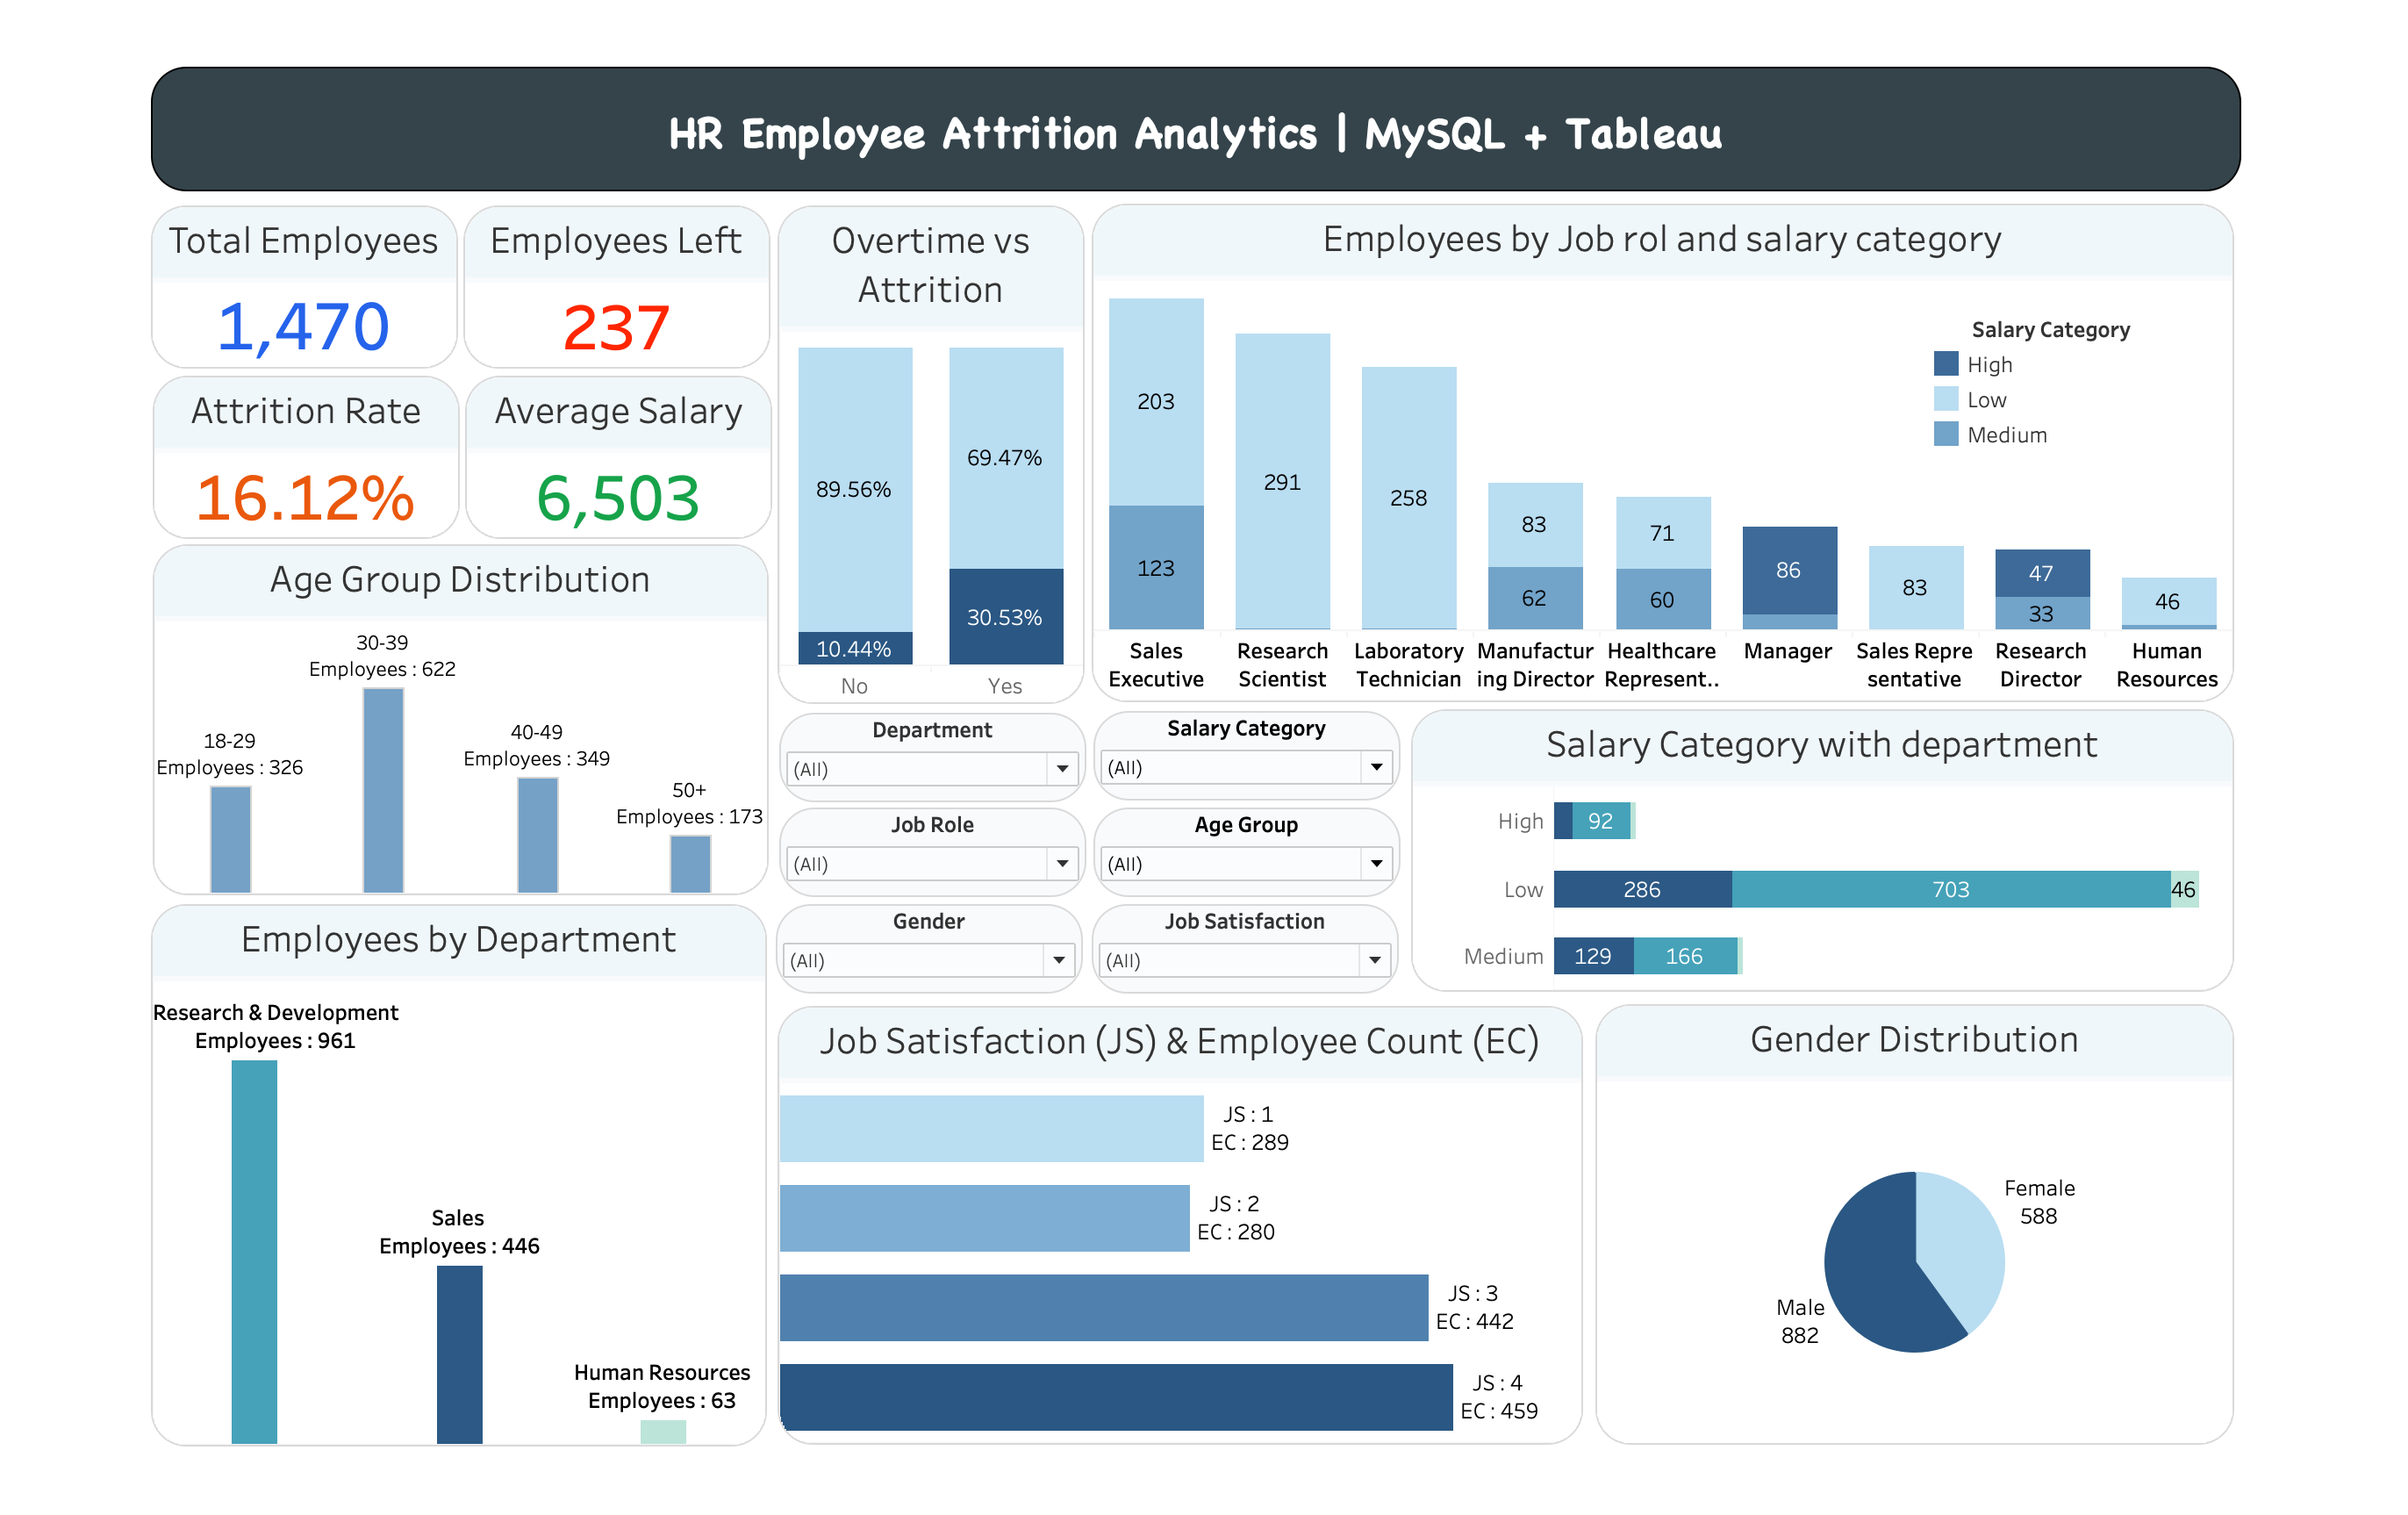

Layout of this report page (visuals, bound fields, positions):
{"tool":"tableau","page":{"name":"Dashboard 1","canvas":[1200,800],"ordinal":0},"visuals":[{"type":"text","box":[4,7,1191,71]},{"type":"worksheet","title":"Job Role","mark":"Automatic","rows":["EmployeeNumber"],"cols":["JobRole"],"box":[540,85,651,284]},{"type":"worksheet","title":"Total Employees","mark":"Automatic","box":[4,86,175,93]},{"type":"worksheet","title":"Employees Left","mark":"Automatic","box":[182,86,175,93]},{"type":"worksheet","title":"Overtime vs Attrition","mark":"Automatic","cols":["OverTime"],"box":[361,86,175,284]},{"type":"legend","title":"Job Role","param":"[federated.0eisggo0r1hdwp172ihms1edjboi].[none:SalaryCategory:nk]","box":[1017,148,140,78]},{"type":"worksheet","title":"Attrition Rate","mark":"Automatic","box":[5,183,175,93]},{"type":"worksheet","title":"Average Salary","mark":"Automatic","box":[183,183,175,93]},{"type":"worksheet","title":"Age Group Distribution","mark":"Automatic","rows":["EmployeeNumber"],"cols":["AgeGroup"],"box":[5,279,351,200]},{"type":"worksheet","title":"Salary Category","mark":"Automatic","rows":["SalaryCategory"],"cols":["EmployeeNumber"],"box":[722,373,469,161]},{"type":"filter","title":"Age Group Distribution","param":"[federated.0eisggo0r1hdwp172ihms1edjboi].[none:SalaryCategory:nk]","box":[541,374,175,51]},{"type":"filter","title":"Employees by Department","param":"[federated.0eisggo0r1hdwp172ihms1edjboi].[none:Department:nk]","box":[362,375,175,51]},{"type":"filter","title":"Job Role","param":"[federated.0eisggo0r1hdwp172ihms1edjboi].[none:JobRole:nk]","box":[362,429,175,51]},{"type":"filter","title":"Age Group Distribution","param":"[federated.0eisggo0r1hdwp172ihms1edjboi].[none:AgeGroup:nk]","box":[541,429,175,51]},{"type":"worksheet","title":"Employees by Department","mark":"Automatic","rows":["EmployeeNumber"],"cols":["Department"],"box":[4,484,351,309]},{"type":"filter","title":"Gender Distribution","param":"[federated.0eisggo0r1hdwp172ihms1edjboi].[none:Gender:nk]","box":[360,484,175,51]},{"type":"filter","title":"JS % EC","param":"[federated.0eisggo0r1hdwp172ihms1edjboi].[none:JobSatisfaction:ok]","box":[540,484,175,51]},{"type":"worksheet","title":"Gender Distribution","mark":"Pie","box":[827,541,364,251]},{"type":"worksheet","title":"JS % EC","mark":"Automatic","rows":["JobSatisfaction"],"cols":["EmployeeNumber"],"box":[361,542,459,250]}]}

Visuals, with their boxes on the page's 1200x800 design canvas (x1, y1, x2, y2). These are canvas units, not pixel positions in the 2408x1515 screenshot, which may show the page scaled, cropped or inside an application window:
text: pyautogui.locateOnScreen(4, 7, 1195, 78)
"Job Role" worksheet: pyautogui.locateOnScreen(540, 85, 1191, 369)
"Total Employees" worksheet: pyautogui.locateOnScreen(4, 86, 179, 179)
"Employees Left" worksheet: pyautogui.locateOnScreen(182, 86, 357, 179)
"Overtime vs Attrition" worksheet: pyautogui.locateOnScreen(361, 86, 536, 370)
"Job Role" legend: pyautogui.locateOnScreen(1017, 148, 1157, 226)
"Attrition Rate" worksheet: pyautogui.locateOnScreen(5, 183, 180, 276)
"Average Salary" worksheet: pyautogui.locateOnScreen(183, 183, 358, 276)
"Age Group Distribution" worksheet: pyautogui.locateOnScreen(5, 279, 356, 479)
"Salary Category" worksheet: pyautogui.locateOnScreen(722, 373, 1191, 534)
"Age Group Distribution" filter: pyautogui.locateOnScreen(541, 374, 716, 425)
"Employees by Department" filter: pyautogui.locateOnScreen(362, 375, 537, 426)
"Job Role" filter: pyautogui.locateOnScreen(362, 429, 537, 480)
"Age Group Distribution" filter: pyautogui.locateOnScreen(541, 429, 716, 480)
"Employees by Department" worksheet: pyautogui.locateOnScreen(4, 484, 355, 793)
"Gender Distribution" filter: pyautogui.locateOnScreen(360, 484, 535, 535)
"JS % EC" filter: pyautogui.locateOnScreen(540, 484, 715, 535)
"Gender Distribution" worksheet (Pie marks): pyautogui.locateOnScreen(827, 541, 1191, 792)
"JS % EC" worksheet: pyautogui.locateOnScreen(361, 542, 820, 792)
